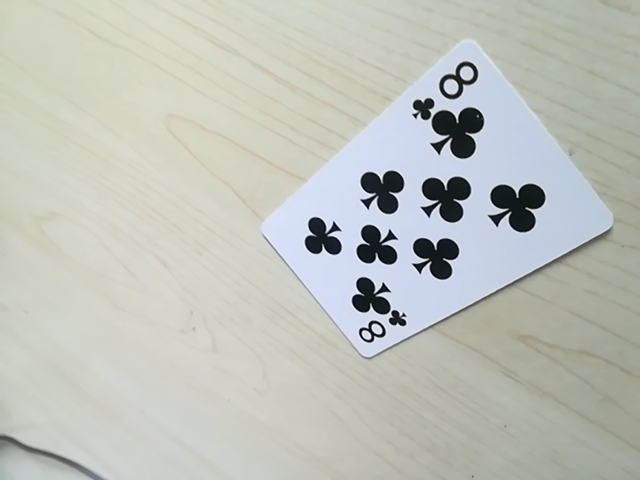mh 8: (414, 54, 485, 109), (349, 305, 411, 352)
